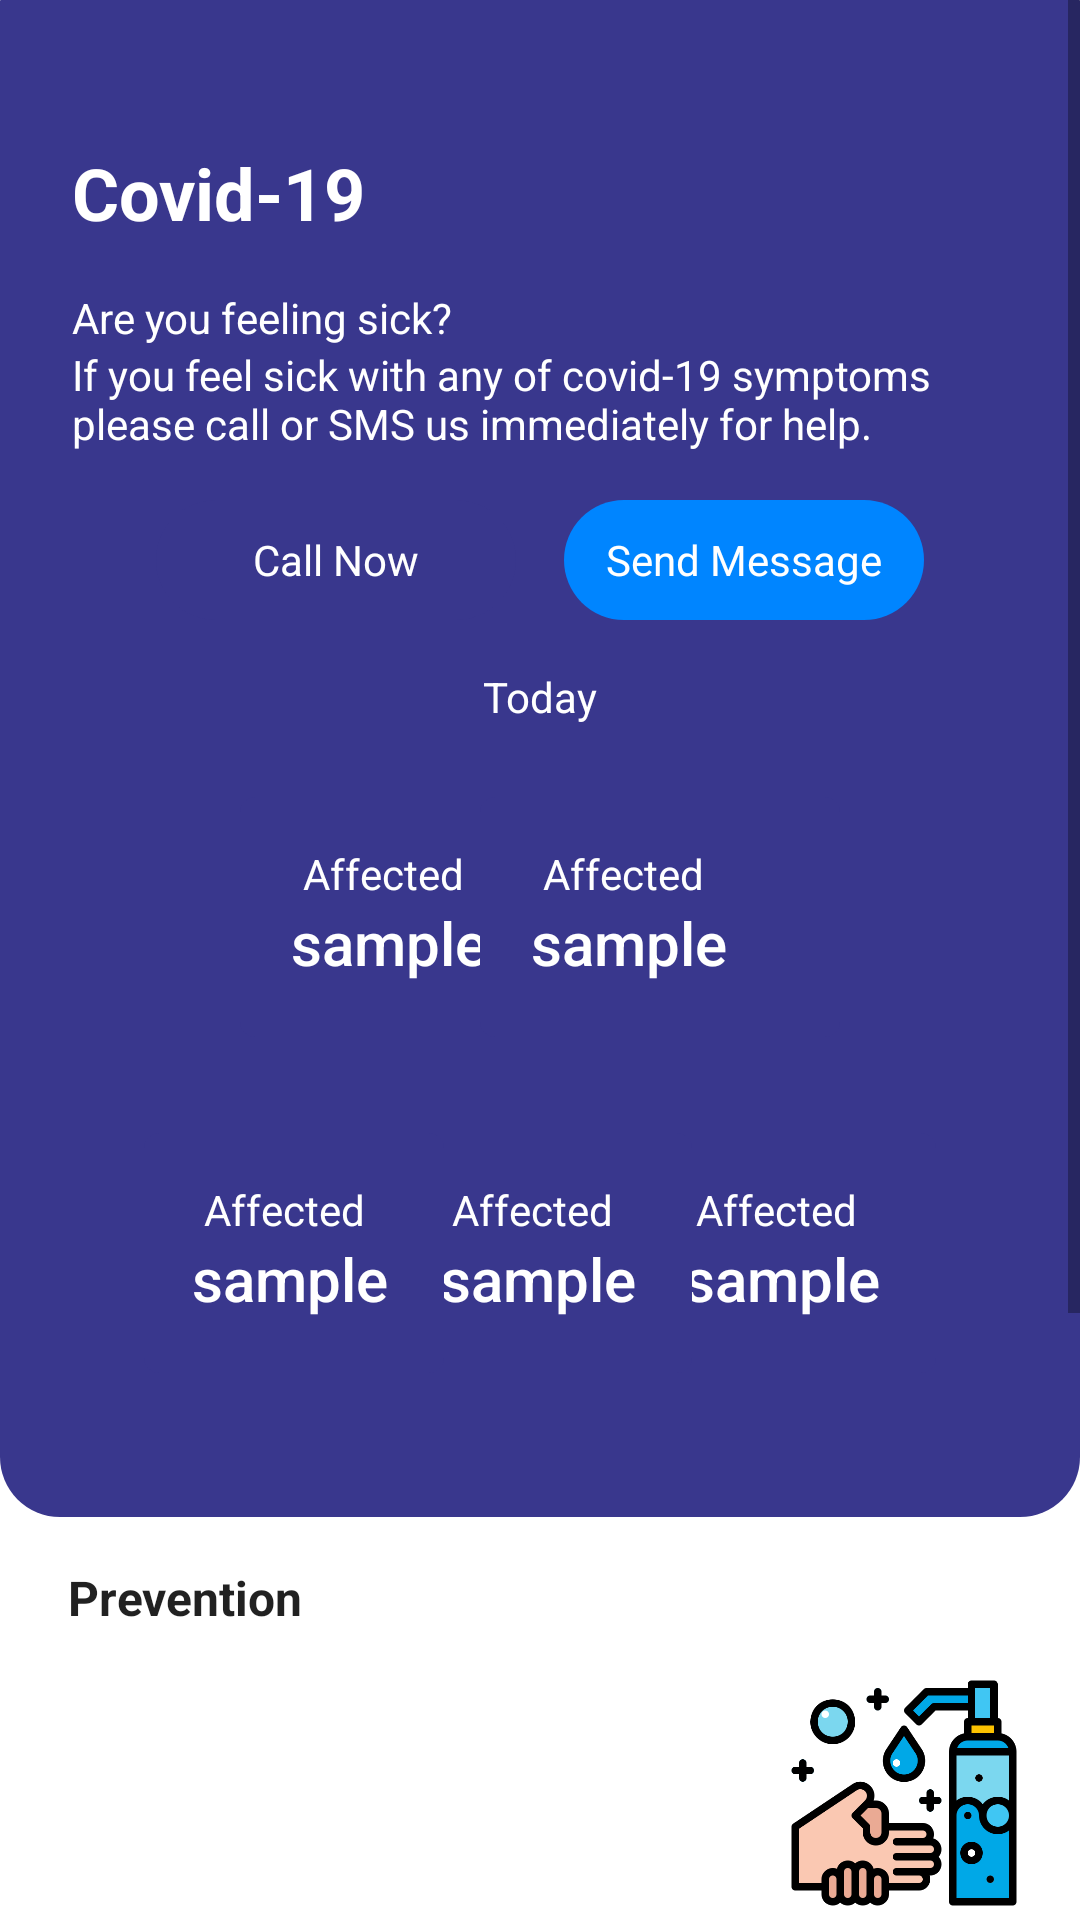

Named icons in this screenshot (1080×1920) and their bounding boxes, (x1=x1, y1=y1, x2=x2, y2=y2):
handgel: (x1=791, y1=1680, x2=1017, y2=1906)
